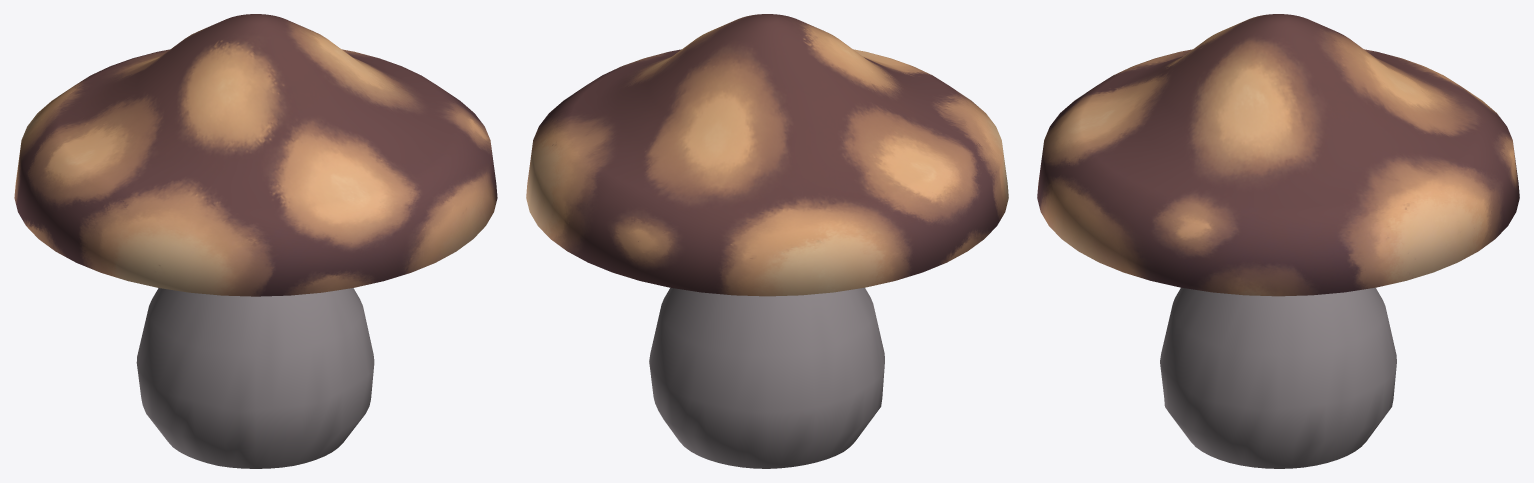
Rendered from chunkyShroom_V2_Model.fbx.
3 views of the same model, side by side, from view 1: azimuth 30°, elevation 25°; view 2: azimuth 150°, elevation 25°; view 3: azimuth 270°, elevation 25° (orthographic).
Visible parts, largest first — view 1: chunkyShroom_Model; view 2: chunkyShroom_Model; view 3: chunkyShroom_Model.
Boxes of the visible parts, x1,y1,x2,y2 form: chunkyShroom_Model: [14, 14, 497, 468]; chunkyShroom_Model: [526, 14, 1008, 468]; chunkyShroom_Model: [1037, 14, 1519, 468].
Bounding box in the file's own units: 2.94 × 2.76 × 2.94.
Materials: 1 (1 with a texture image).
